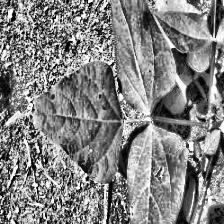ALS: (30, 59, 113, 189), (122, 129, 189, 224)
